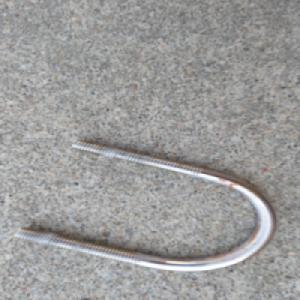ClampPart: (15, 139, 280, 273)
